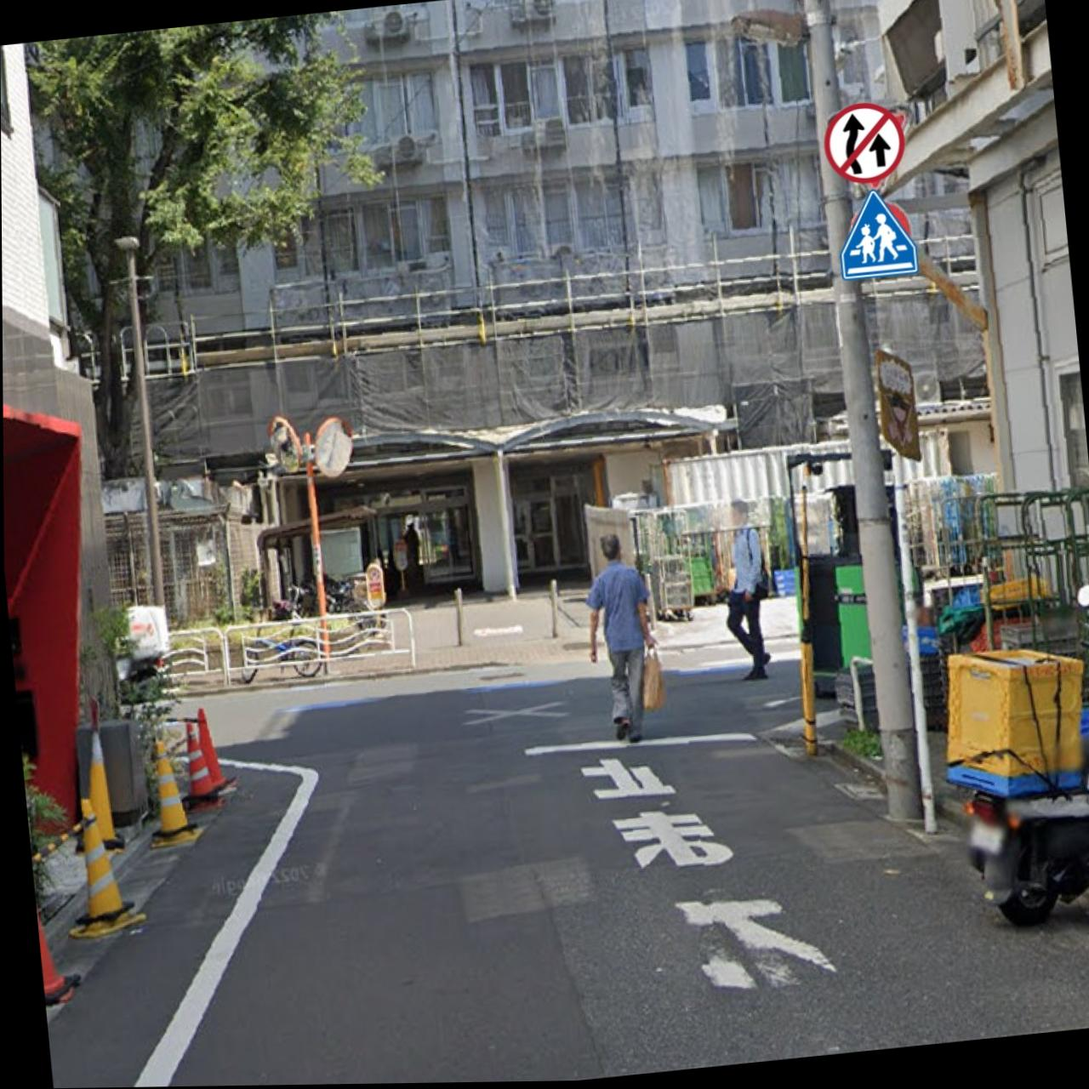cone: (385, 142, 1089, 414)
